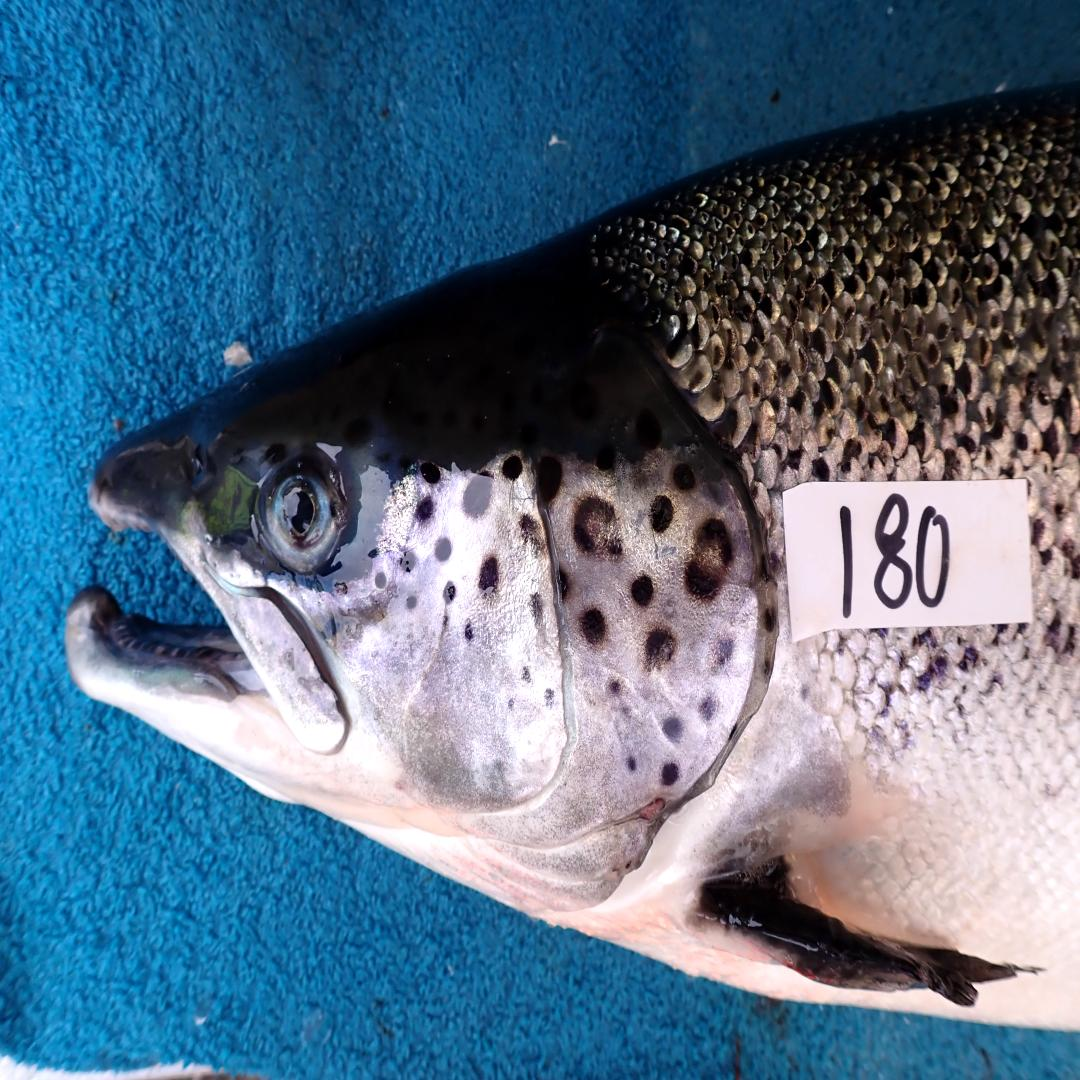roi: (339, 447, 769, 923)
